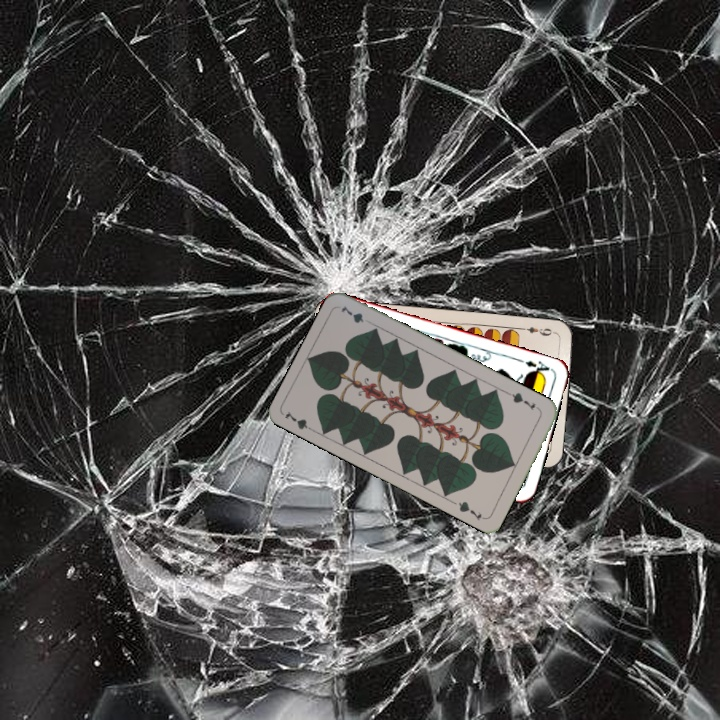E9: (517, 323, 558, 339)
EA: (521, 356, 555, 379)
G7: (281, 407, 319, 435), (505, 388, 538, 413)
